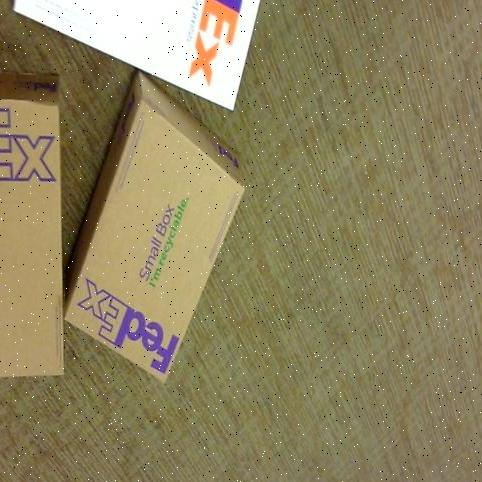Amazon: (86, 83, 253, 402), (6, 0, 263, 112), (0, 46, 72, 382)
